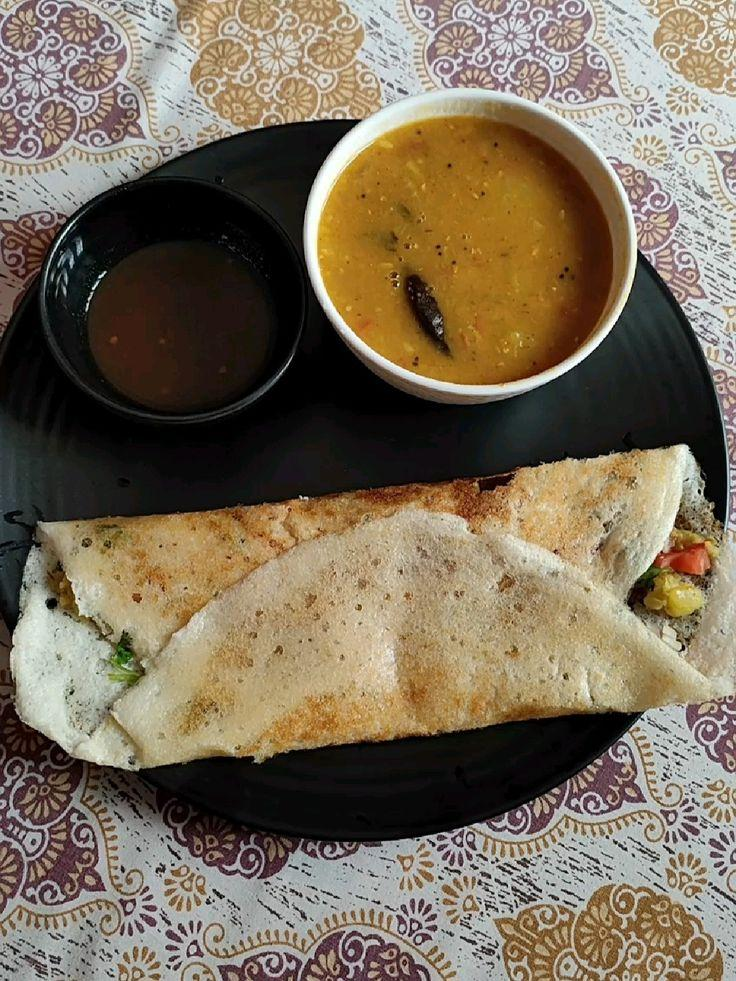dosa: (26, 483, 736, 772)
